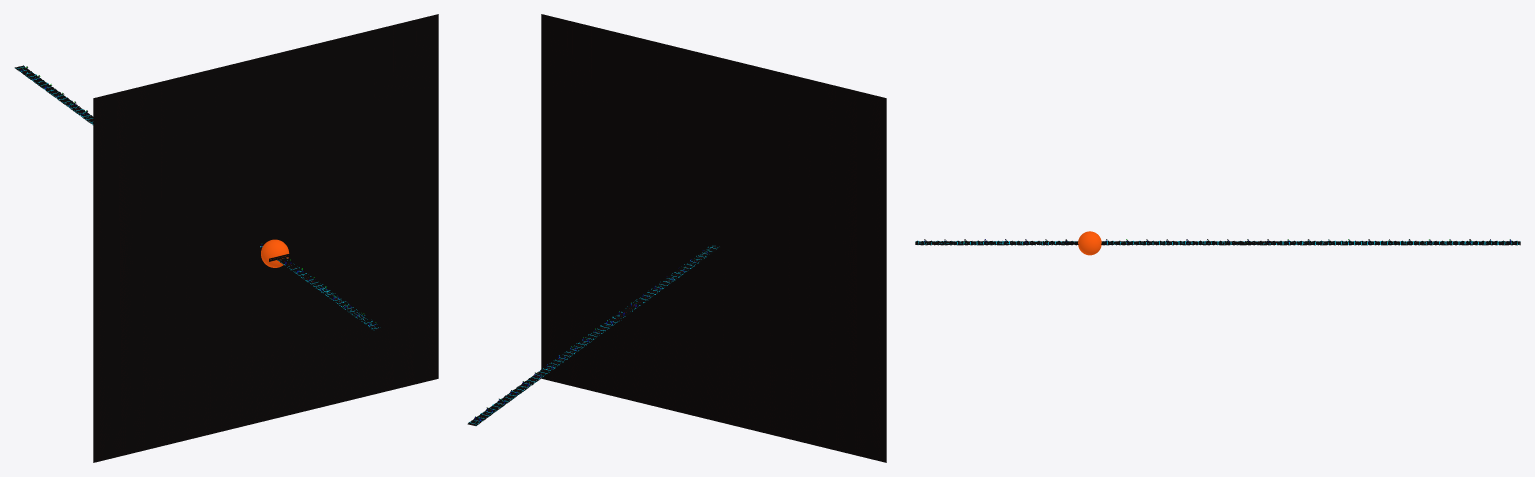
File: endlessloop-transformed.glb
3 views of the same model, side by side, from view 1: azimuth 30°, elevation 25°; view 2: azimuth 150°, elevation 25°; view 3: azimuth 270°, elevation 25° (orthographic). The views are drawn at different scales.
Parts seen in each view (by area): view 1: BackGround_Material.004_0, Enviroment, Sun_Material.003_0; view 2: BackGround_Material.004_0, Enviroment, Road; view 3: Enviroment, Road.
Boxes of the visible parts, x1,y1,x2,y2 form: BackGround_Material.004_0: [93, 14, 438, 462]; Enviroment: [14, 65, 382, 330]; Sun_Material.003_0: [261, 239, 289, 267]; BackGround_Material.004_0: [541, 14, 886, 462]; Enviroment: [467, 245, 720, 425]; Road: [471, 245, 716, 425]; Enviroment: [915, 240, 1520, 245]; Road: [915, 242, 1520, 243].
Bounding box in the file's own units: 420 × 424 × 758.
Materials: 3 (3 with a texture image).
